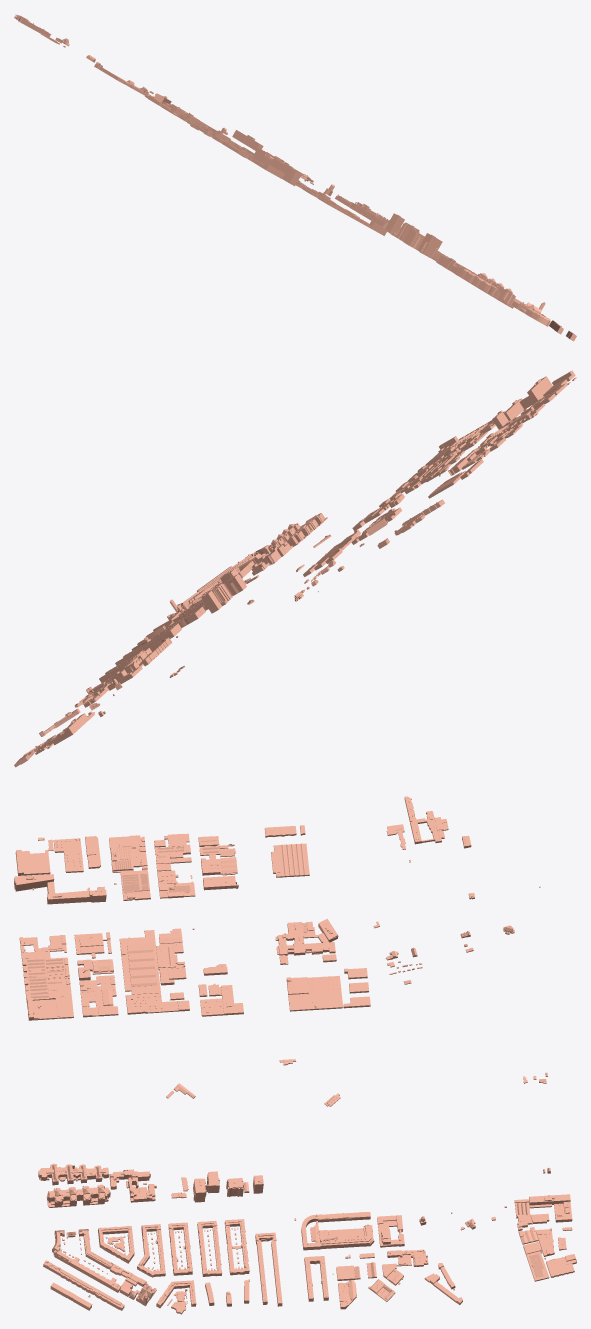
3 renders of one model, top to bottom at view 1: azimuth 30°, elevation 25°; view 2: azimuth 150°, elevation 25°; view 3: azimuth 270°, elevation 25°, orthographic. The views are drawn at different scales.
Bounding box in the file's own units: 3.54e+07 × 2.61e+07 × 4.16e+07.
